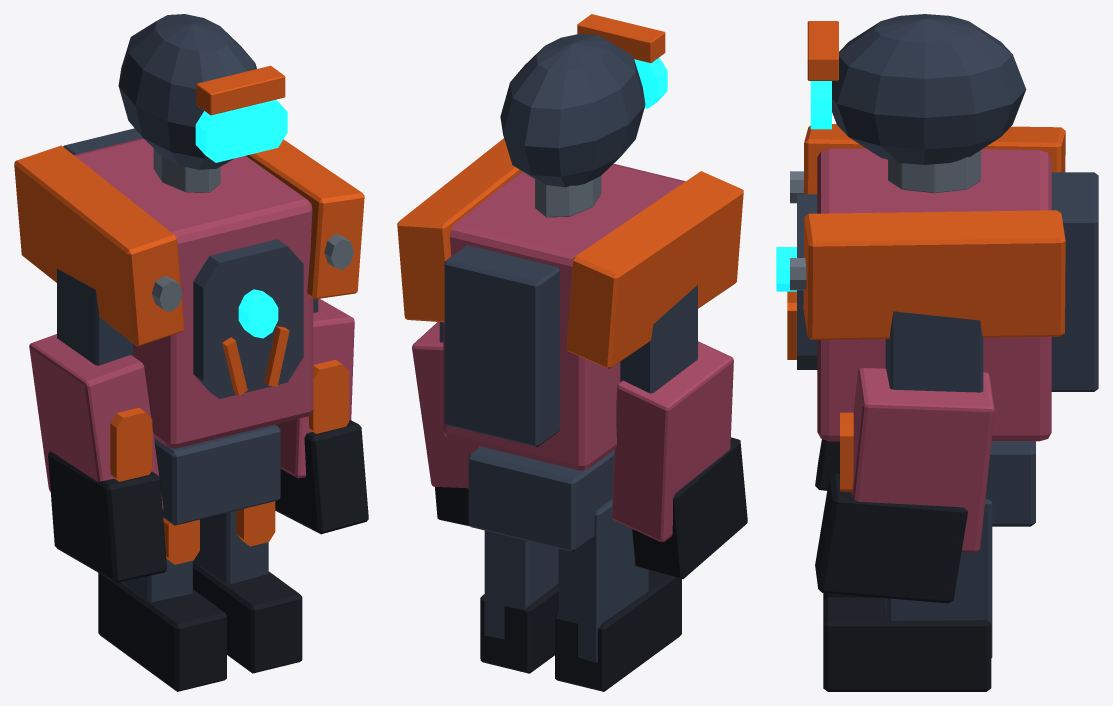
File: enemy_standard__intact.glb
3 views of the same model, side by side, from view 1: azimuth 30°, elevation 25°; view 2: azimuth 150°, elevation 25°; view 3: azimuth 270°, elevation 25° (orthographic). The views are drawn at different scales.
Visible parts, largest first — view 1: ROLE_primary, ROLE_threat, ROLE_accent, ROLE_rubber, ROLE_interaction, ROLE_bareMetal; view 2: ROLE_primary, ROLE_threat, ROLE_accent, ROLE_rubber, ROLE_bareMetal, ROLE_interaction; view 3: ROLE_primary, ROLE_threat, ROLE_accent, ROLE_rubber, ROLE_bareMetal, ROLE_interaction.
Part boxes in pixels (<box>): ROLE_primary: <box>57,14,318,602</box>; ROLE_threat: <box>29,138,354,510</box>; ROLE_accent: <box>14,65,364,564</box>; ROLE_rubber: <box>48,420,368,691</box>; ROLE_interaction: <box>195,99,287,338</box>; ROLE_bareMetal: <box>151,148,353,311</box>; ROLE_primary: <box>439,33,697,662</box>; ROLE_threat: <box>412,163,733,542</box>; ROLE_accent: <box>397,14,743,368</box>; ROLE_rubber: <box>435,437,747,691</box>; ROLE_bareMetal: <box>535,176,601,217</box>; ROLE_interaction: <box>634,57,667,108</box>; ROLE_primary: <box>797,14,1098,657</box>; ROLE_threat: <box>817,148,1051,552</box>; ROLE_accent: <box>787,21,1065,492</box>; ROLE_rubber: <box>815,439,991,691</box>; ROLE_bareMetal: <box>790,150,980,290</box>; ROLE_interaction: <box>776,81,831,291</box>.
Size of the model in its own units: 2.5 by 5.5 by 2.5.
